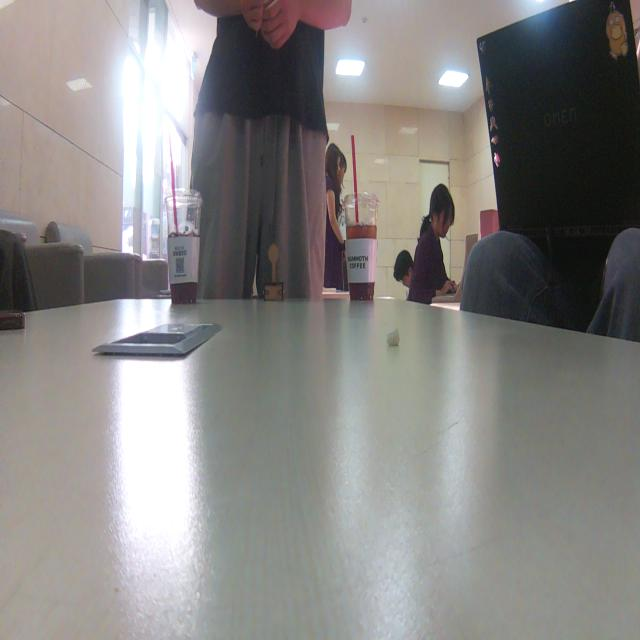target: (262, 242, 284, 304)
